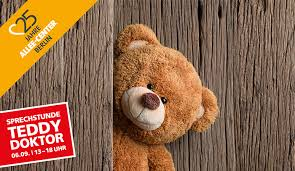teddy: (112, 21, 227, 171)
